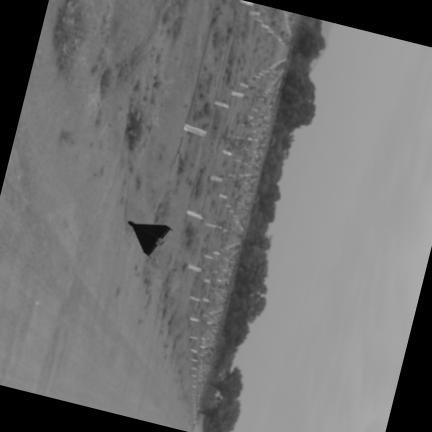Shahed: (127, 222, 170, 255)
